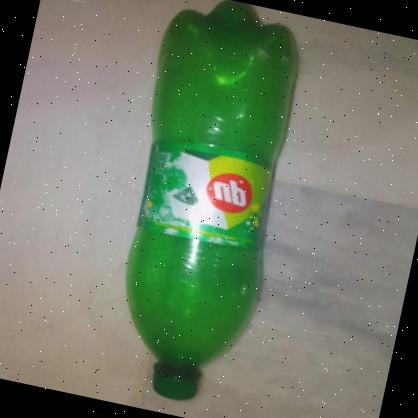bottle: (85, 0, 327, 418)
cap: (146, 368, 204, 406)
label: (126, 123, 290, 256)
